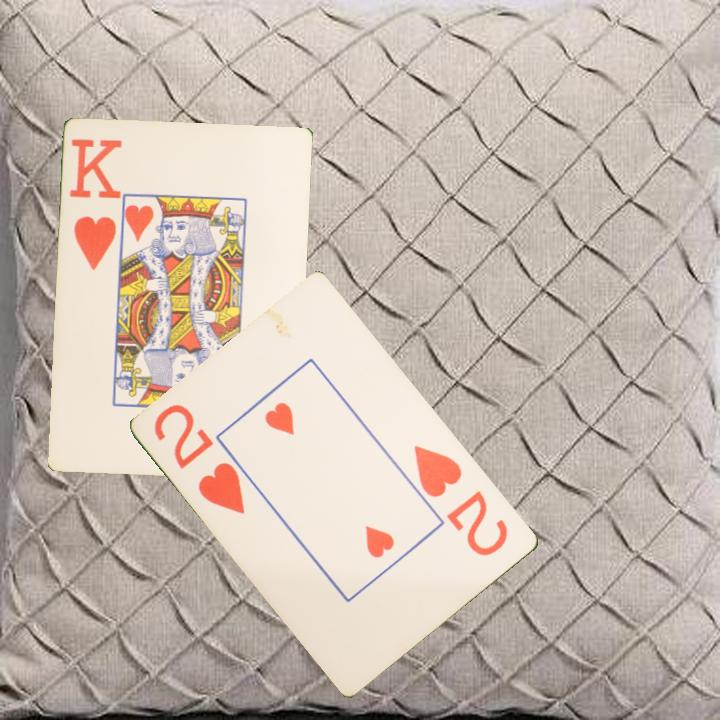2h: (410, 441, 512, 560), (151, 400, 249, 518)
Kh: (66, 135, 124, 274)
